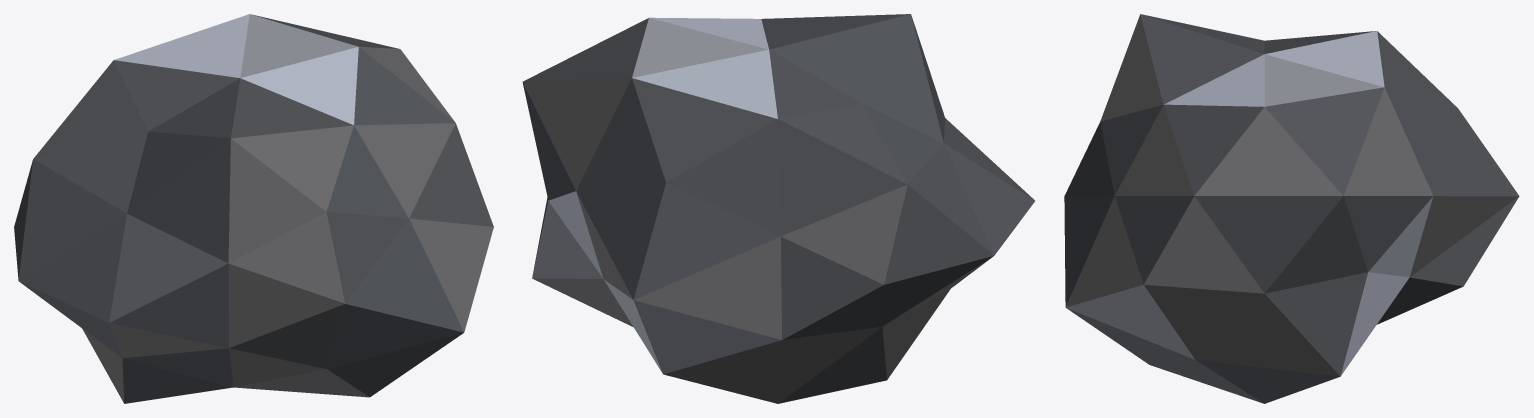
Rendered from titanium_ore.obj.
The picture shows the model from 3 angles, left to right: view 1: azimuth 30°, elevation 25°; view 2: azimuth 150°, elevation 25°; view 3: azimuth 270°, elevation 25°; orthographic projection. The views are drawn at different scales.
Bounding box in the file's own units: 0.932 × 0.6392 × 0.8929.
